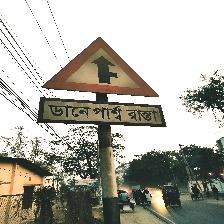Side-road-right: (39, 37, 165, 127)
